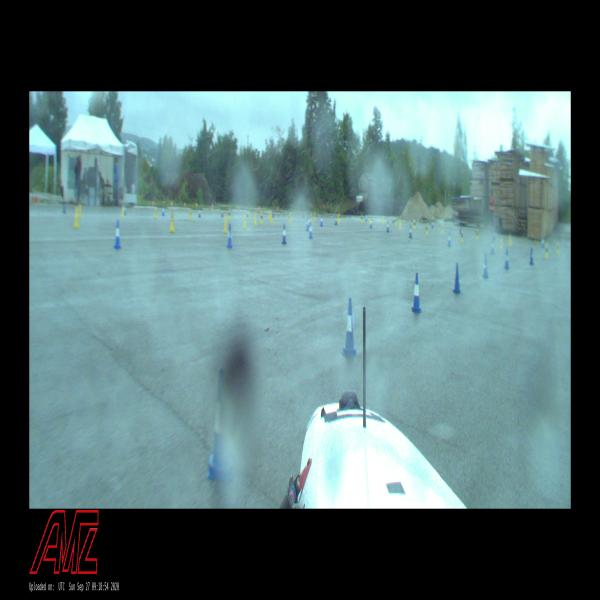blue_cone: (206, 368, 236, 482), (342, 299, 358, 356), (411, 274, 422, 312), (453, 262, 461, 294), (114, 220, 121, 249), (226, 224, 233, 248), (482, 255, 489, 278), (504, 249, 509, 269), (282, 224, 287, 244), (491, 236, 496, 254), (529, 247, 534, 264), (306, 218, 309, 231), (409, 225, 412, 238), (320, 215, 323, 226), (335, 214, 338, 225), (310, 223, 312, 239), (198, 208, 201, 218), (448, 234, 450, 247), (387, 221, 389, 233), (542, 237, 544, 248), (162, 206, 164, 216), (370, 218, 372, 228), (124, 205, 126, 215), (308, 216, 310, 225), (432, 220, 434, 228)
yellow_cone: (74, 210, 80, 228), (223, 214, 228, 233), (170, 214, 175, 231), (545, 243, 548, 257), (508, 234, 511, 246), (254, 213, 257, 225), (228, 209, 231, 220), (557, 242, 560, 253), (154, 208, 157, 219), (121, 206, 124, 217), (189, 208, 192, 219), (425, 224, 428, 234), (500, 237, 502, 249), (413, 220, 416, 228), (476, 229, 478, 240), (368, 218, 371, 225), (261, 213, 263, 223), (461, 231, 463, 241), (399, 220, 401, 230), (338, 212, 340, 222), (289, 214, 291, 222), (314, 212, 316, 220), (441, 225, 443, 233), (310, 214, 312, 222), (361, 215, 362, 222)
